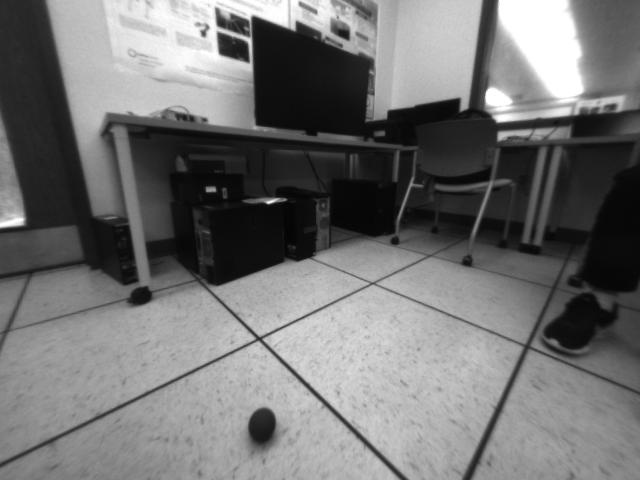dogtoy: (239, 403, 287, 448)
